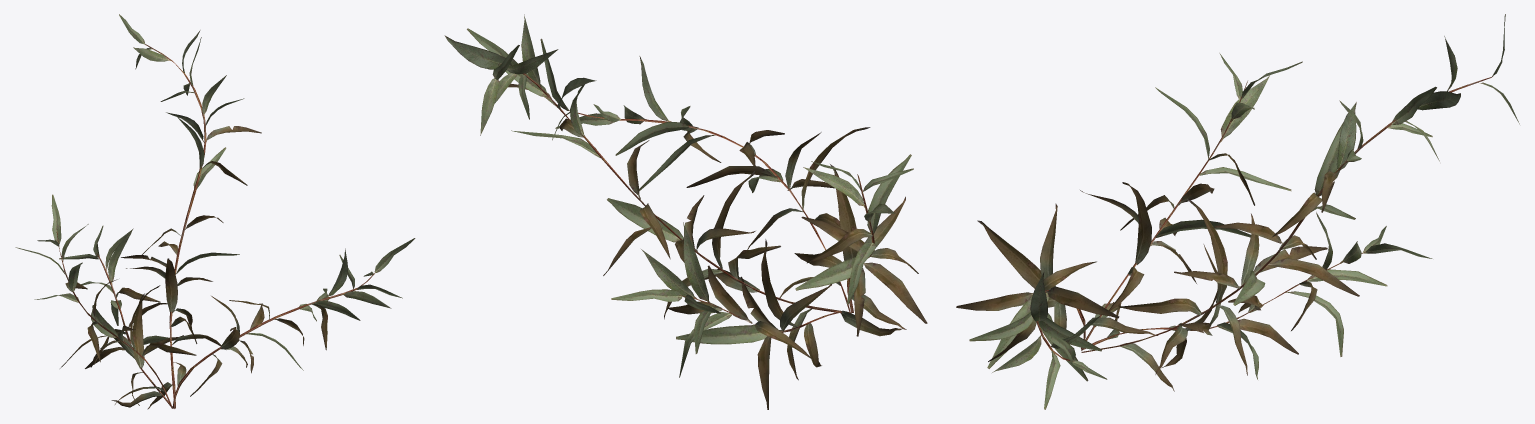
Rendered from shrub_02.glb.
3 views of the same model, side by side, from view 1: azimuth 30°, elevation 25°; view 2: azimuth 150°, elevation 25°; view 3: azimuth 270°, elevation 25° (orthographic). The views are drawn at different scales.
Bounding box in the file's own units: 1.37 × 1.19 × 1.39.
1 material, 1 textured.
